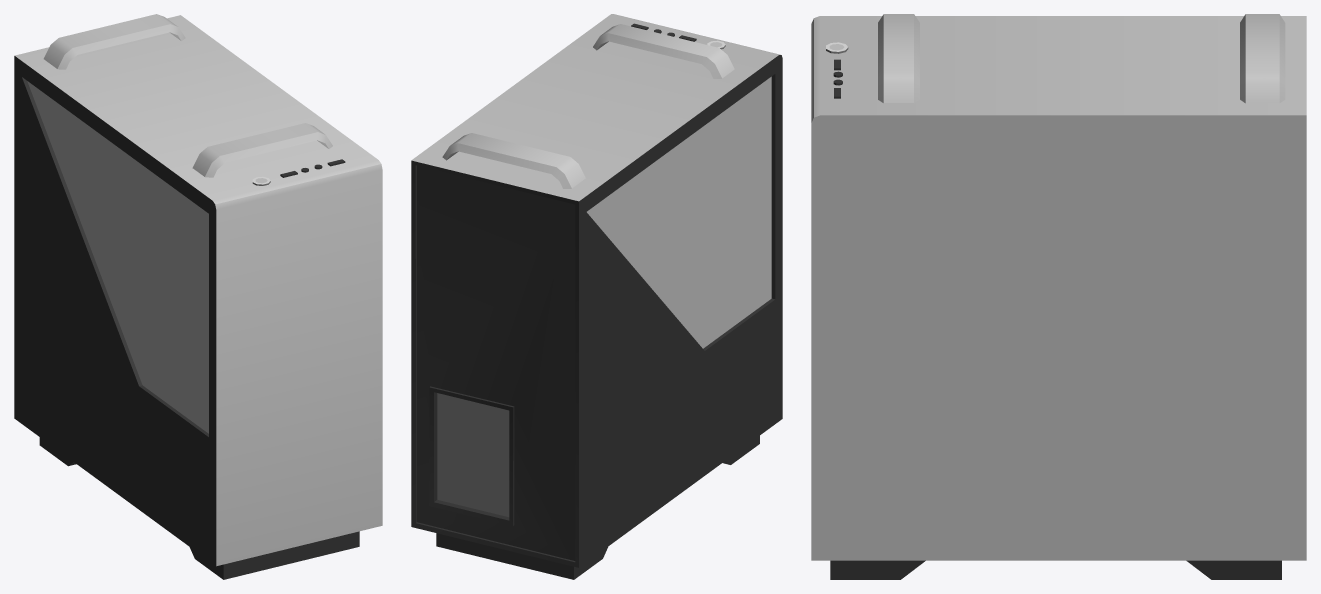
File: PC_Case_1.obj
3 renders of one model, left to right at view 1: azimuth 30°, elevation 25°; view 2: azimuth 150°, elevation 25°; view 3: azimuth 270°, elevation 25°, orthographic. The views are drawn at different scales.
Visible parts, largest first — view 1: PC_Case_1; view 2: PC_Case_1; view 3: PC_Case_1.
Boxes of the visible parts, x1,y1,x2,y2 form: PC_Case_1: (14,14,382,579); PC_Case_1: (411,14,782,579); PC_Case_1: (811,14,1306,579).
Bounding box in the file's own units: 0.227 × 0.5266 × 0.4772.
